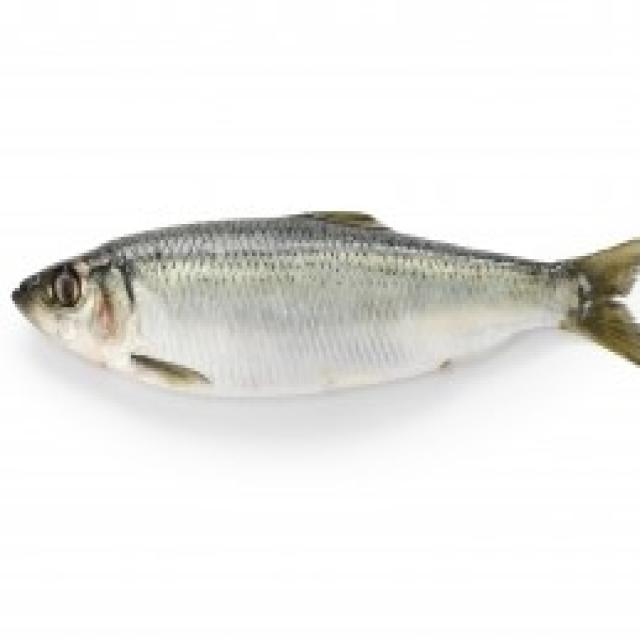Bangus: (0, 162, 640, 458)
